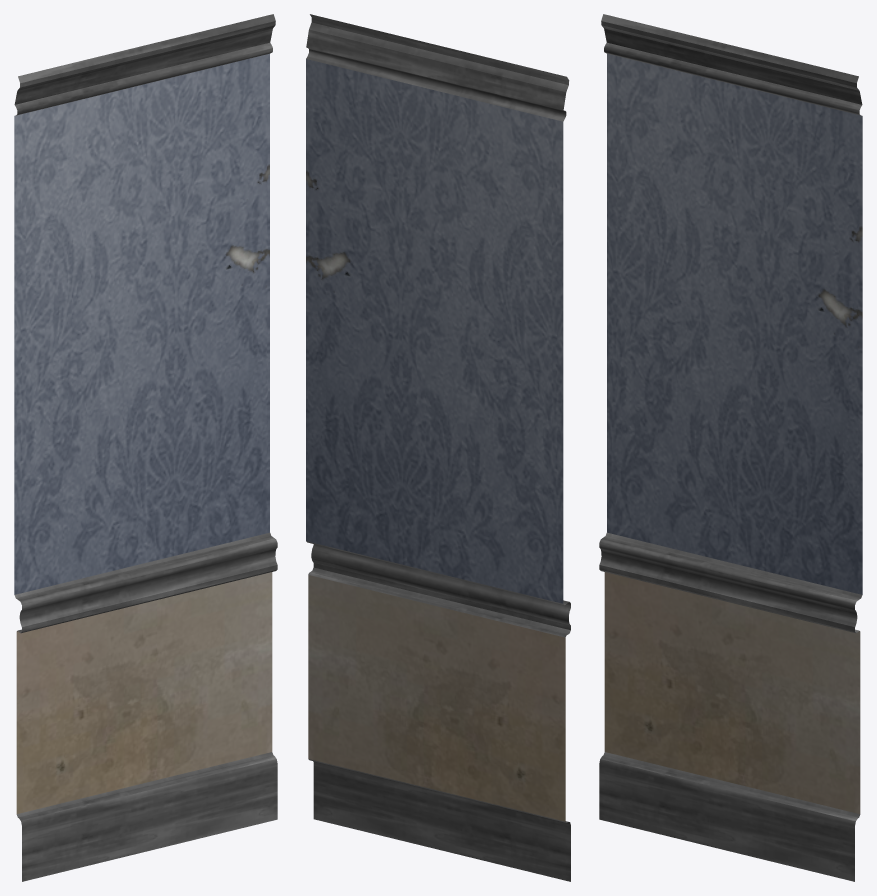
File: Mod_Wall_A_1x3.fbx
3 views of the same model, side by side, from view 1: azimuth 30°, elevation 25°; view 2: azimuth 150°, elevation 25°; view 3: azimuth 330°, elevation 25° (orthographic).
Parts seen in each view (by area): view 1: Mod_Wall_A_1x3; view 2: Mod_Wall_A_1x3; view 3: Mod_Wall_A_1x3.
Boxes of the visible parts, <box> form: Mod_Wall_A_1x3: <box>14,14,277,881</box>; Mod_Wall_A_1x3: <box>306,14,570,881</box>; Mod_Wall_A_1x3: <box>599,14,862,881</box>.
Size of the model in its own units: 100 by 300 by 5.
1 material, 1 textured.
